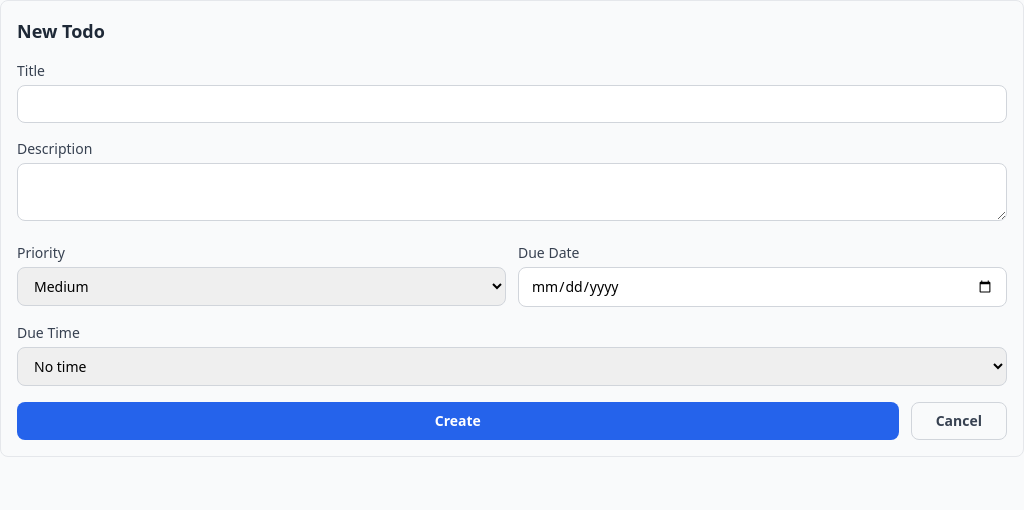
TodoForm › shows error when title is empty
The width and height of the screenshot is (1024, 510).
Click the button "Create" at {"x": 458, "y": 421}, box left=17, top=402, right=899, bottom=440
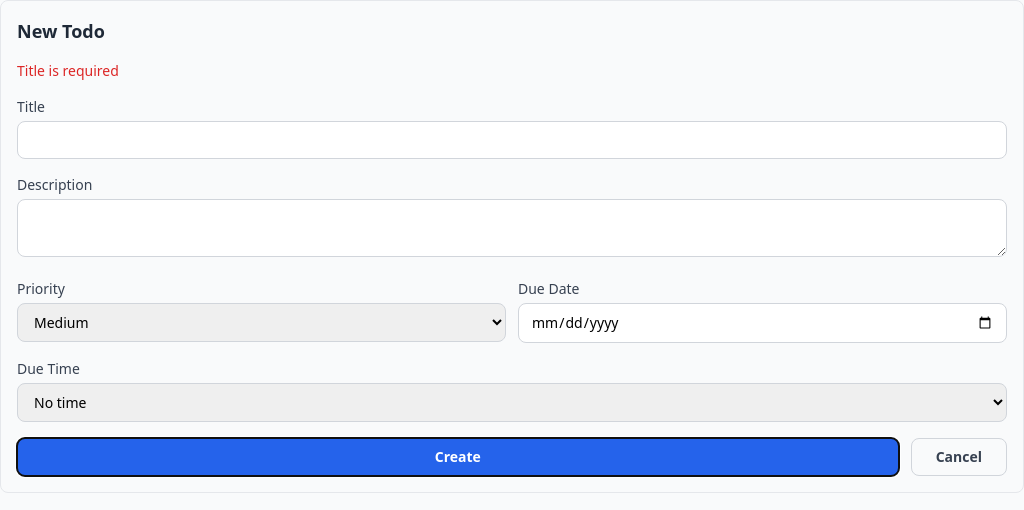
Result: the text "Title is required" is shown at left=17, top=61, right=119, bottom=80
